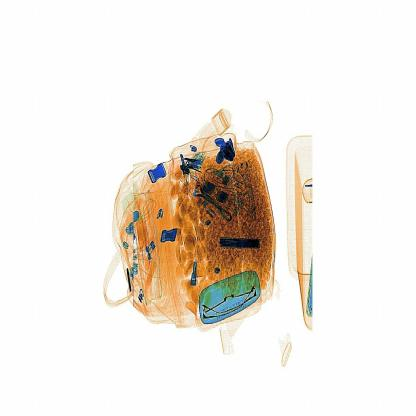scissors: (214, 232, 276, 254)
